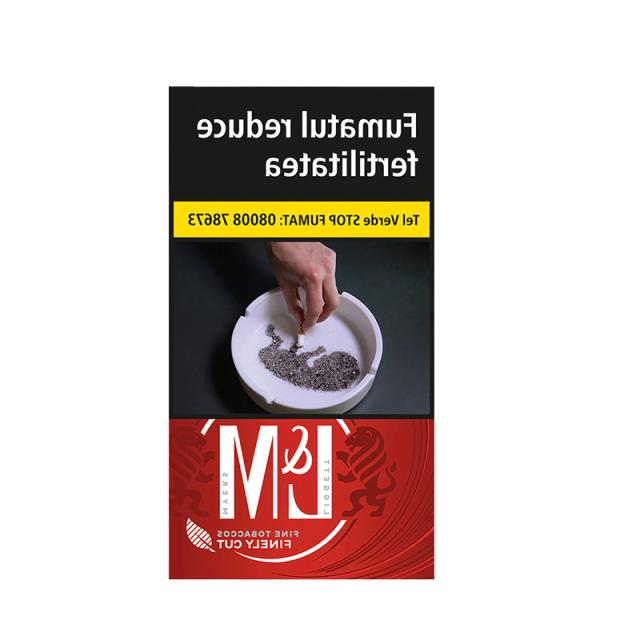lm: (164, 71, 443, 585)
